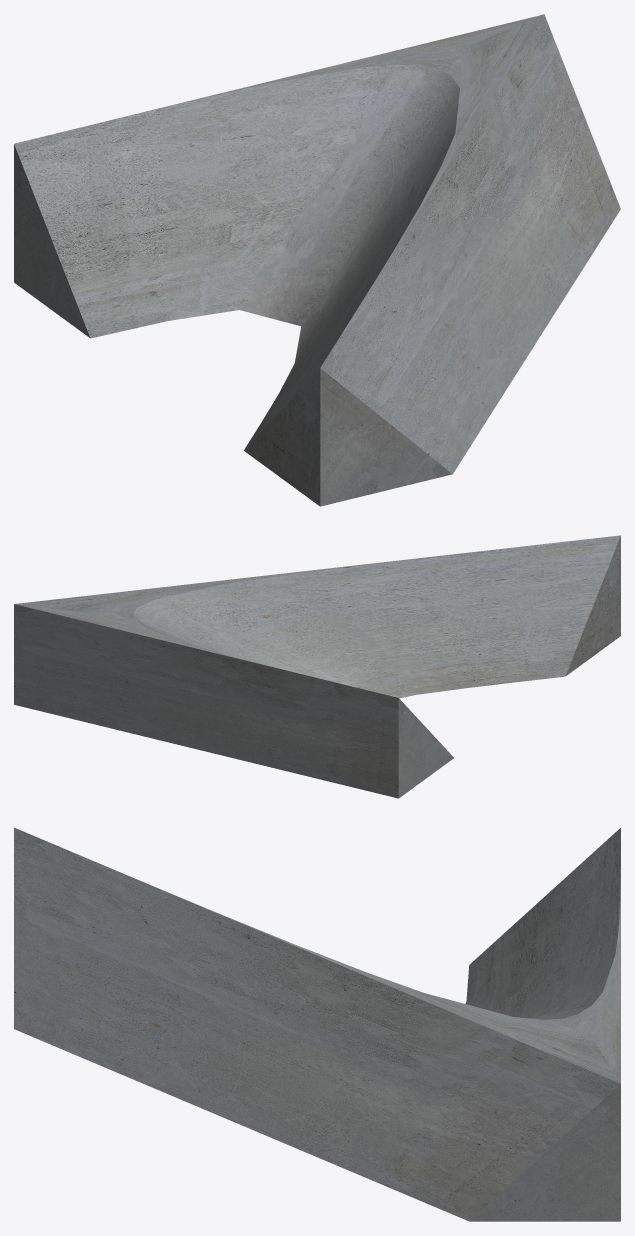
The model's file is module_F5.fbx.
3 views of the same model, one above another, from view 1: azimuth 30°, elevation 25°; view 2: azimuth 150°, elevation 25°; view 3: azimuth 270°, elevation 25° (orthographic). The views are drawn at different scales.
Parts seen in each view (by area): view 1: modules; view 2: modules; view 3: modules.
Part boxes in pixels (x1,y1,x2,y2): modules: (14,14,620,506); modules: (14,535,620,798); modules: (14,827,620,1221).
Bounding box in the file's own units: 1000 × 1000 × 250.
Materials: 1 (1 with a texture image).
